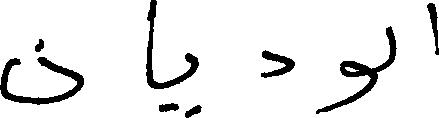X: (0, 34, 82, 109), (319, 56, 375, 117), (161, 48, 198, 117), (262, 45, 293, 82), (427, 0, 438, 59), (146, 0, 152, 92), (386, 21, 394, 72)
